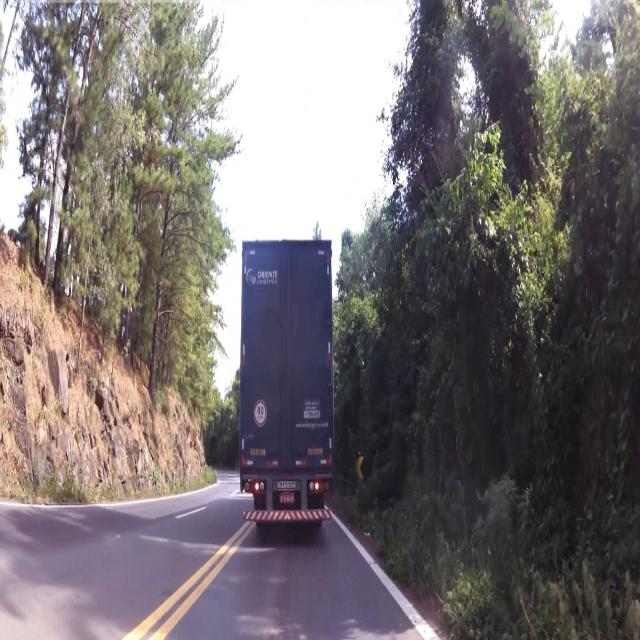Del: (355, 453, 368, 479)
